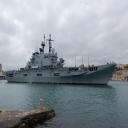Portanaves: (5, 32, 118, 88)
